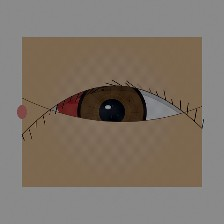hemorrhage_spot: (44, 68, 142, 146)
